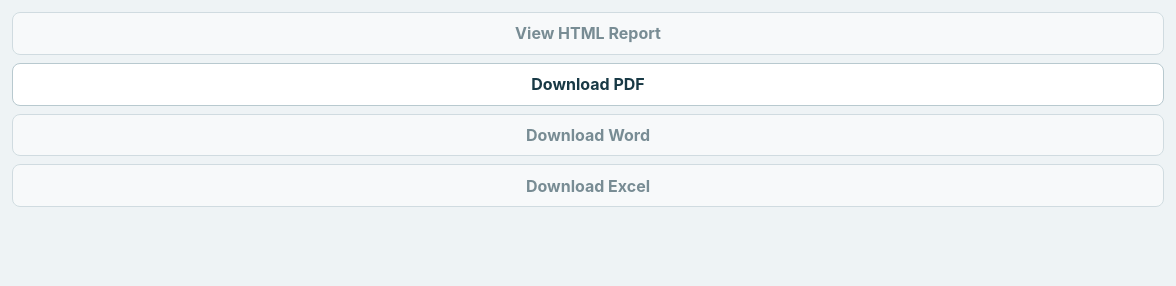
it: ReportDownloads › handles unauthorized and failed downloads
The image size is (1176, 286).
Click the button "Download PDF".
click(588, 84)  # box [12, 63, 1164, 106]
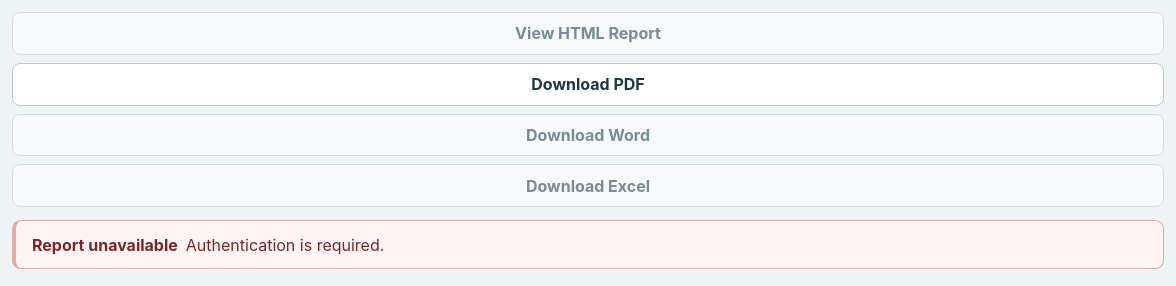
Expected: the message shows "Authentication is required.", [186, 234, 384, 254]
